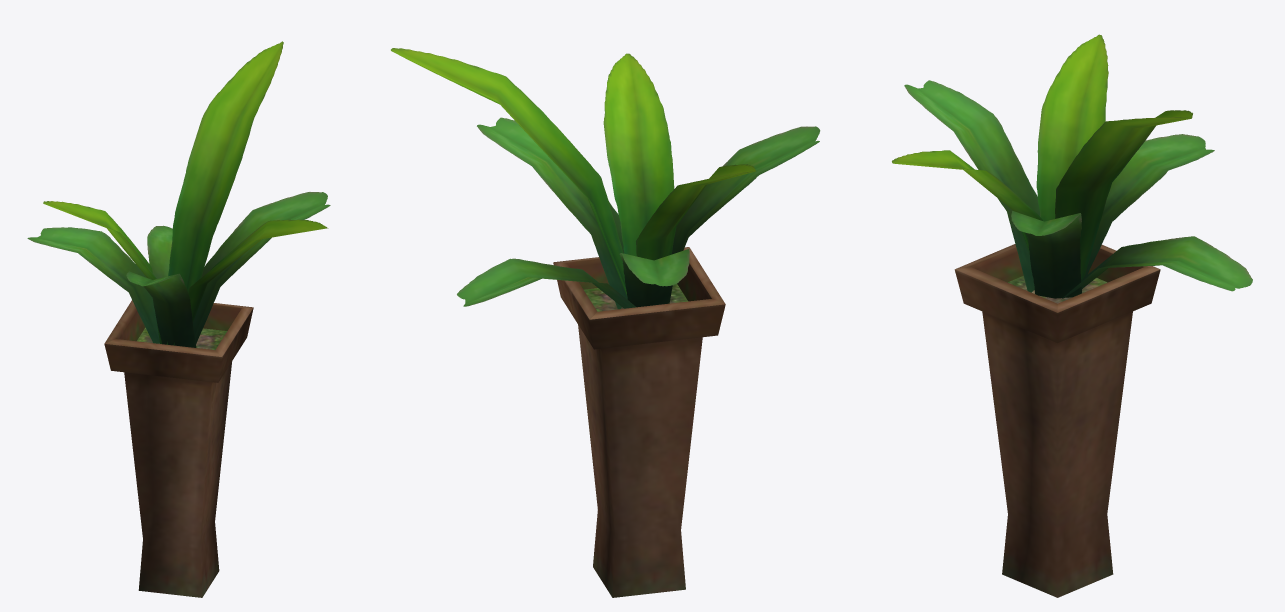
The model's file is wm_灌木盆栽11.fbx.
3 views of the same model, side by side, from view 1: azimuth 30°, elevation 25°; view 2: azimuth 150°, elevation 25°; view 3: azimuth 270°, elevation 25° (orthographic). The views are drawn at different scales.
Parts seen in each view (by area): view 1: wm_灌木盆栽11; view 2: wm_灌木盆栽11; view 3: wm_灌木盆栽11.
Part boxes in pixels (x1,y1,x2,y2): wm_灌木盆栽11: (27,41,330,597); wm_灌木盆栽11: (391,48,820,597); wm_灌木盆栽11: (892,34,1252,597).
Bounding box in the file's own units: 132 × 197 × 127.
